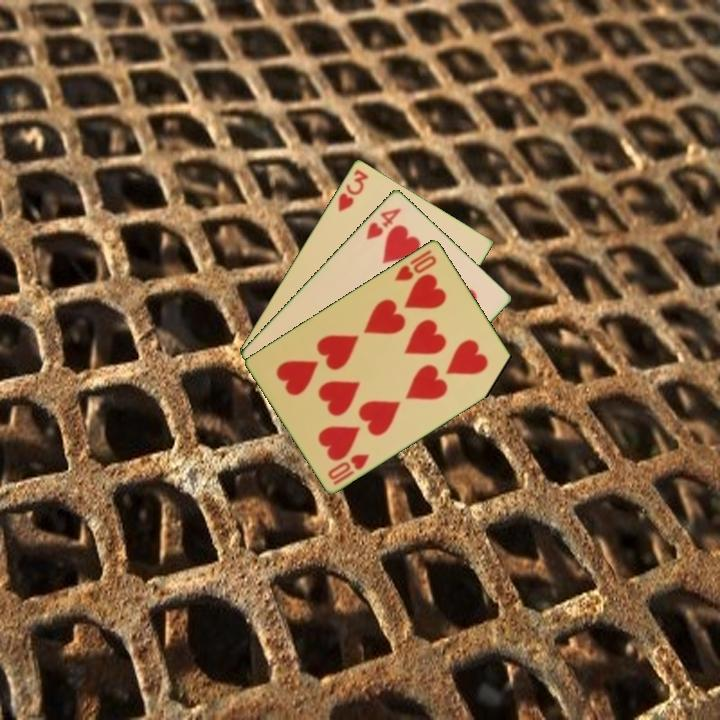10h: (324, 450, 372, 488), (391, 251, 440, 284)
3h: (334, 165, 371, 215)
4h: (362, 204, 404, 242)
